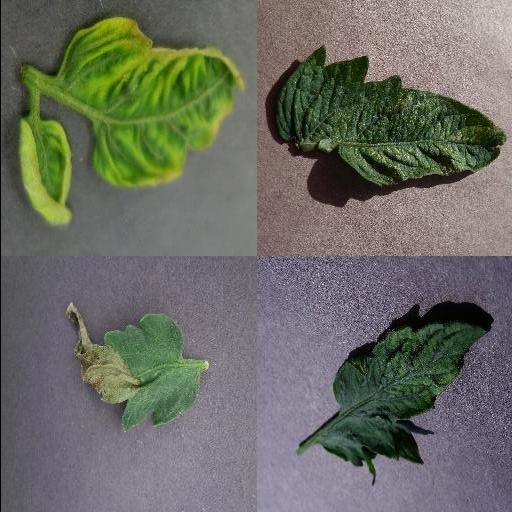Late Blight: (65, 302, 199, 432)
Mosaic Virus: (312, 321, 490, 487)
Spider Mites: (276, 44, 508, 188)
Yellow Leaf Curl Virus: (57, 17, 245, 187), (17, 117, 71, 229)
